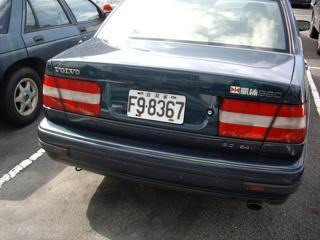plate: (125, 86, 186, 125)
